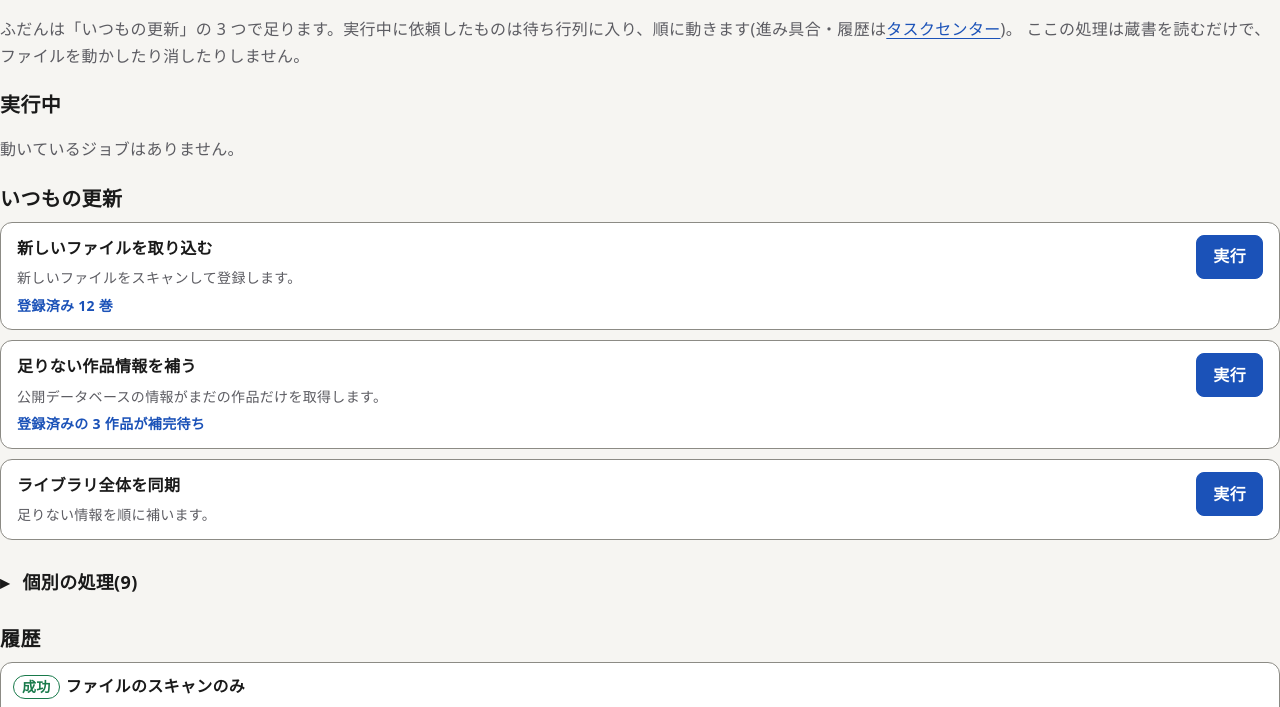
進み具合の文言(#207) › タスクセンターは段と件数を分けて出し、総数の無い段は値の無い progress にする
Click the button with aria-label "ライブラリ全体を同期を実行" at (1230, 494), box [1196, 472, 1263, 516]
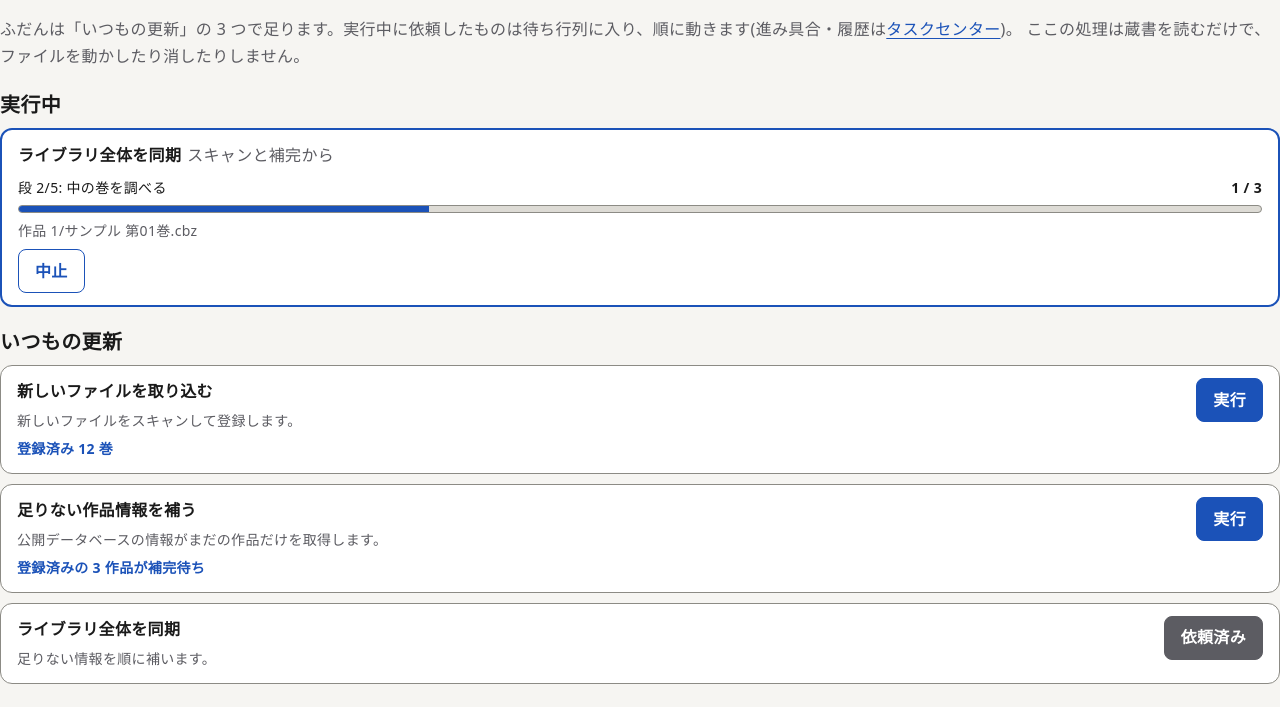
Result: the text "段 2/5: 中の巻を調べる" is shown at [18, 176, 167, 199]
Result: the progress indicator holds "33" at [19, 206, 1261, 212]
